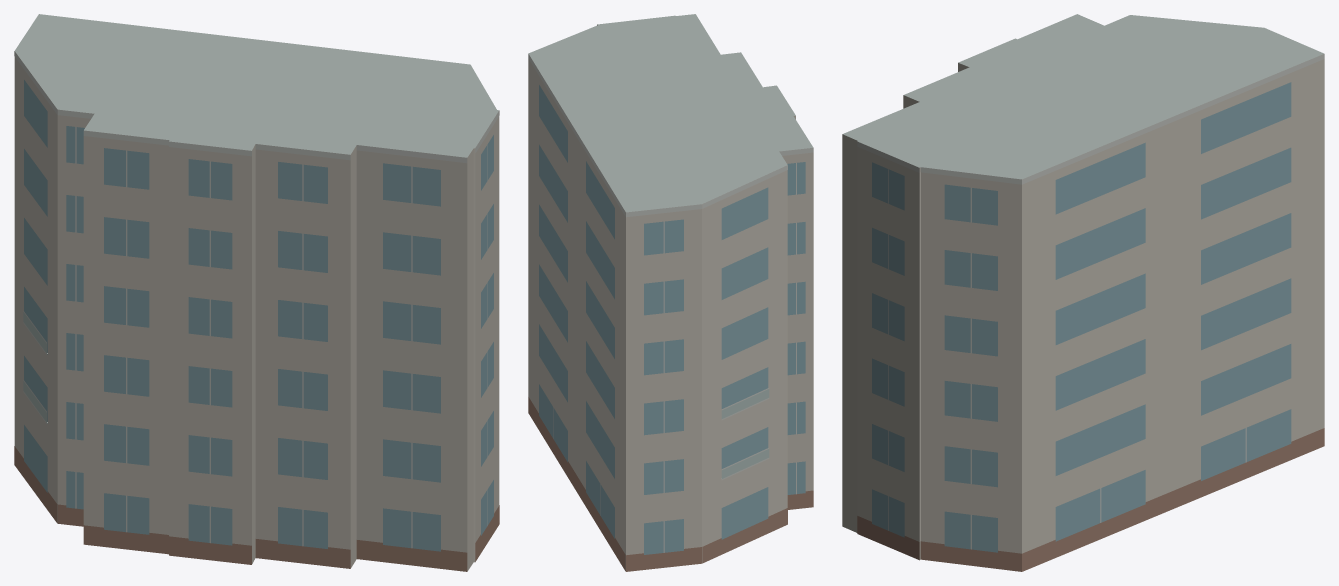
File: survey-upis-32579695.glb
3 renders of one model, left to right at view 1: azimuth 30°, elevation 25°; view 2: azimuth 150°, elevation 25°; view 3: azimuth 270°, elevation 25°, orthographic. The views are drawn at different scales.
Visible parts, largest first — view 1: survey-upis-32579695.tmp; view 2: survey-upis-32579695.tmp; view 3: survey-upis-32579695.tmp.
Boxes of the visible parts, x1=… form: survey-upis-32579695.tmp: x1=14, y1=14, x2=499, y2=571; survey-upis-32579695.tmp: x1=528, y1=14, x2=813, y2=571; survey-upis-32579695.tmp: x1=842, y1=14, x2=1324, y2=571.
Bounding box in the file's own units: 16.56 × 18.3 × 20.39.
